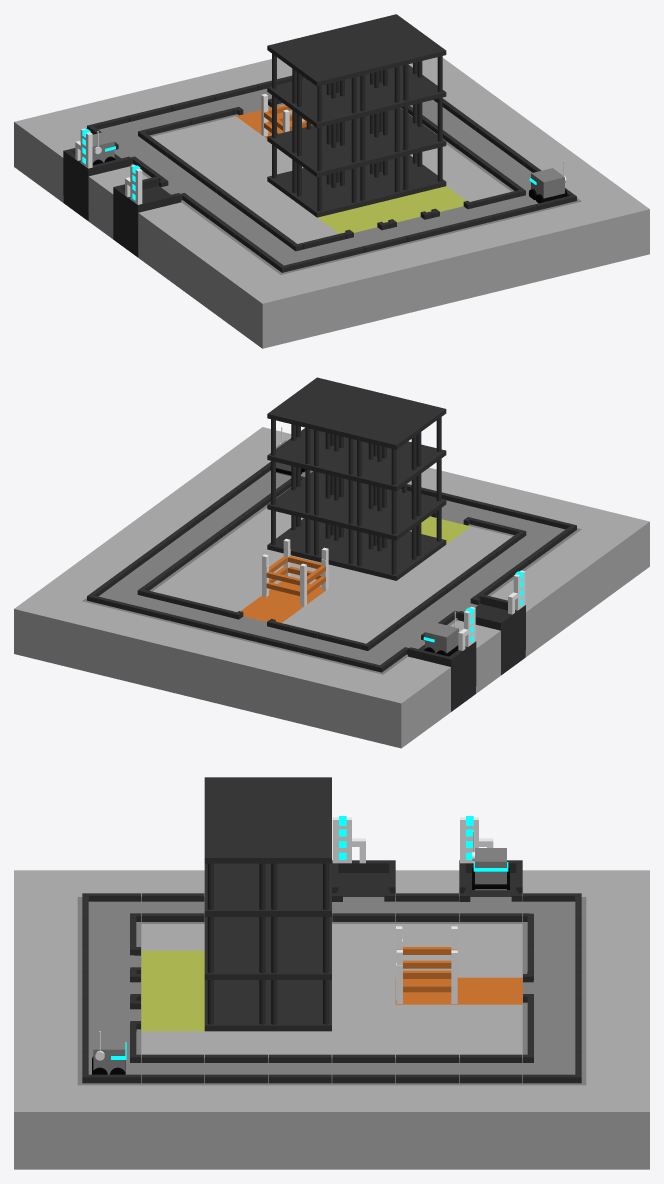
File: warehouse.gltf
3 renders of one model, top to bottom at view 1: azimuth 30°, elevation 25°; view 2: azimuth 150°, elevation 25°; view 3: azimuth 270°, elevation 25°, orthographic. The views are drawn at different scales.
Visible parts, largest first — view 1: Cube (7) (×6), Cube (2) (×4), Cube (5) (×4), Cube (×4), FloorCell (85), FloorCell (61), FloorCell (66), FloorCell (64), FloorCell (63), FloorCell (62), FloorCell (67), FloorCell (68) (+62 smaller); view 2: Cube (7) (×6), Cube (2) (×4), FloorCell (80), Cube (5) (×4), Cube (×4), FloorCell (5), FloorCell (6), FloorCell (3), FloorCell (4), FloorCell (7), FloorCell (2), FloorCell (1) (+67 smaller); view 3: Cube (7) (×6), Cube (2) (×4), Cube (5) (×4), Cube (×4), Rail1 (×9), FloorCell (8), FloorCell (48), FloorCell (53), FloorCell (31), FloorCell, FloorCell (40), FloorCell (74) (+77 smaller).
Part boxes in pixels (left/top/right/bottom): Cube (7) (×6): left=267, top=14, right=446, bottom=86; Cube (2) (×4): left=267, top=124, right=446, bottom=177; Cube (5) (×4): left=267, top=75, right=446, bottom=127; Cube (×4): left=267, top=164, right=446, bottom=217; FloorCell (85): left=237, top=275, right=305, bottom=348; FloorCell (61): left=324, top=254, right=391, bottom=327; FloorCell (66): left=453, top=222, right=520, bottom=295; FloorCell (64): left=410, top=233, right=477, bottom=306; FloorCell (63): left=367, top=243, right=434, bottom=316; FloorCell (62): left=281, top=264, right=348, bottom=337; FloorCell (67): left=539, top=201, right=606, bottom=275; FloorCell (68): left=582, top=191, right=649, bottom=264; Cube (7) (×6): left=267, top=377, right=446, bottom=449; Cube (2) (×4): left=267, top=487, right=446, bottom=540; FloorCell (80): left=358, top=675, right=426, bottom=748; Cube (5) (×4): left=267, top=438, right=446, bottom=491; Cube (×4): left=267, top=528, right=446, bottom=580; FloorCell (5): left=229, top=643, right=296, bottom=716; FloorCell (6): left=315, top=664, right=382, bottom=737; FloorCell (3): left=143, top=622, right=210, bottom=695; FloorCell (4): left=186, top=633, right=253, bottom=706; FloorCell (7): left=272, top=654, right=339, bottom=727; FloorCell (2): left=100, top=612, right=167, bottom=685; FloorCell (1): left=57, top=601, right=124, bottom=674; Cube (7) (×6): left=204, top=777, right=331, bottom=863; Cube (2) (×4): left=204, top=920, right=331, bottom=979; Cube (5) (×4): left=204, top=863, right=331, bottom=916; Cube (×4): left=204, top=980, right=331, bottom=1031; Rail1 (×9): left=82, top=913, right=522, bottom=1083; FloorCell (8): left=522, top=1085, right=586, bottom=1169; FloorCell (48): left=204, top=1085, right=268, bottom=1169; FloorCell (53): left=77, top=1085, right=141, bottom=1169; FloorCell (31): left=395, top=1085, right=459, bottom=1169; FloorCell: left=586, top=1085, right=649, bottom=1169; FloorCell (40): left=268, top=1085, right=331, bottom=1169; FloorCell (74): left=141, top=1085, right=204, bottom=1169.
Bounding box in the file's own units: 9.01 × 4.01 × 10.
